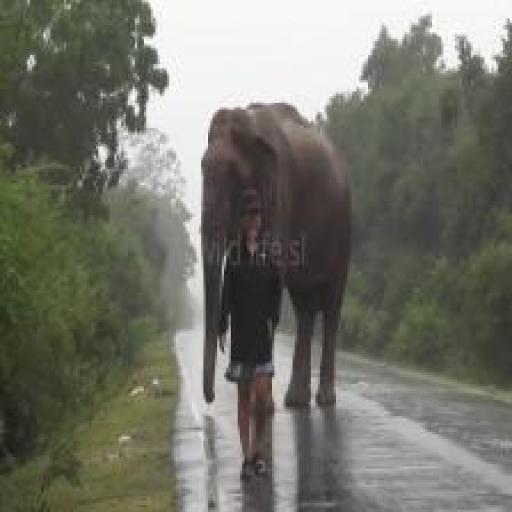Elephant: (178, 60, 376, 492)
